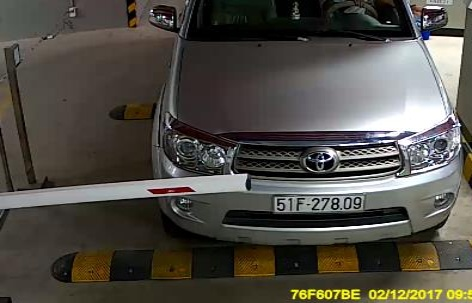plate: (271, 187, 367, 217)
